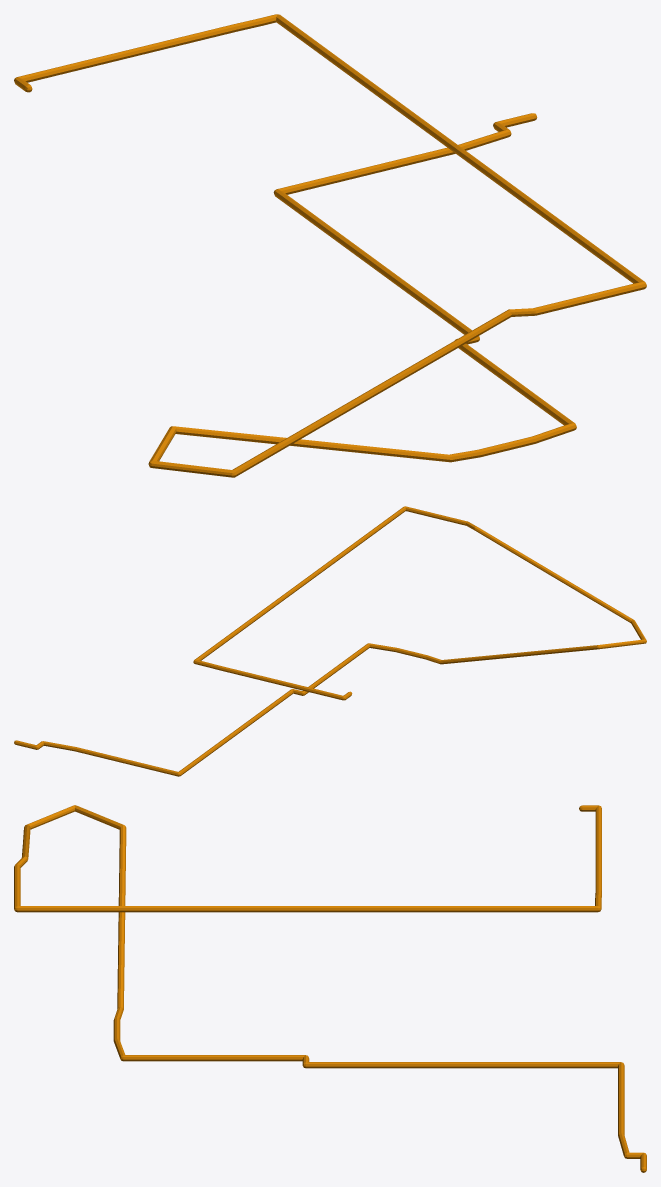
3 renders of one model, top to bottom at view 1: azimuth 30°, elevation 25°; view 2: azimuth 150°, elevation 25°; view 3: azimuth 270°, elevation 25°, orthographic. The views are drawn at different scales.
Bounding box in the file's own units: 2062 × 520 × 1907.
